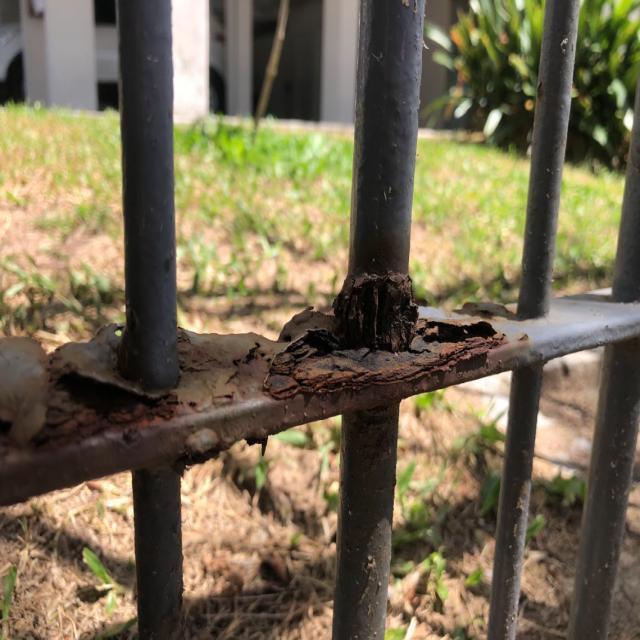Corrosion: (261, 269, 507, 401), (331, 268, 419, 352)
